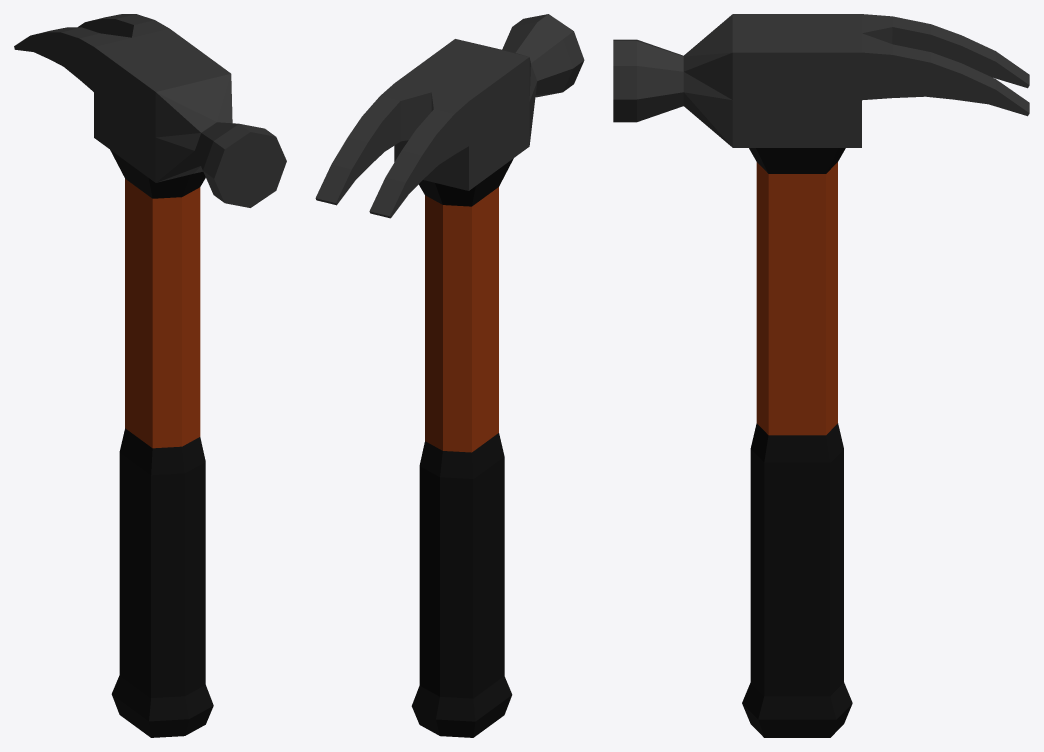
Rendered from Hammer.obj.
The picture shows the model from 3 angles, left to right: view 1: azimuth 30°, elevation 25°; view 2: azimuth 150°, elevation 25°; view 3: azimuth 270°, elevation 25°; orthographic projection. The views are drawn at different scales.
Visible parts, largest first — view 1: Hammer_Circle.005; view 2: Hammer_Circle.005; view 3: Hammer_Circle.005.
Boxes of the visible parts, left/top/right/bottom form: Hammer_Circle.005: left=14, top=14, right=286, bottom=737; Hammer_Circle.005: left=315, top=14, right=584, bottom=737; Hammer_Circle.005: left=613, top=14, right=1029, bottom=737.
Size of the model in its own units: 0.044 by 0.3673 by 0.2007.
